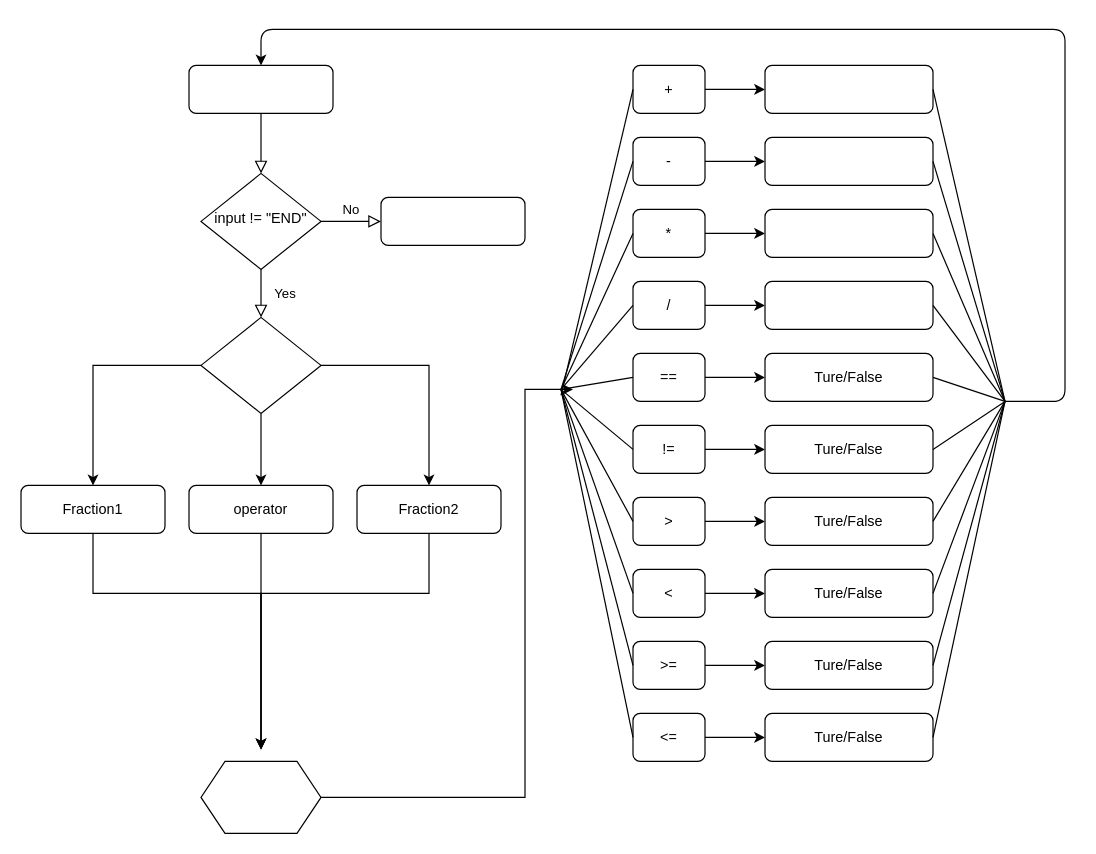
This 1096x854 diagram has some shape labels left out. The centre of each missing label's shape, as x and y in pixels:
"Fraction1 * Fraction2" goes at point (848, 232).
"Fraction1 + Fraction2" goes at point (848, 88).
"Fraction1 - Fraction2" goes at point (848, 160).
"Fraction1 / Fraction2" goes at point (848, 304).
"input" goes at point (260, 88).
"input.Split()" goes at point (260, 364).
"return" goes at point (452, 220).
"Switch" goes at point (260, 796).
